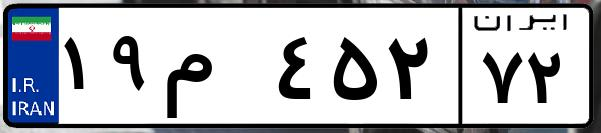1: (57, 26, 110, 100)
2: (385, 28, 445, 110), (525, 38, 570, 115)
4: (270, 28, 330, 110)
5: (330, 28, 385, 110)
7: (475, 38, 525, 113)
9: (110, 28, 158, 98)
م: (158, 20, 270, 120)
